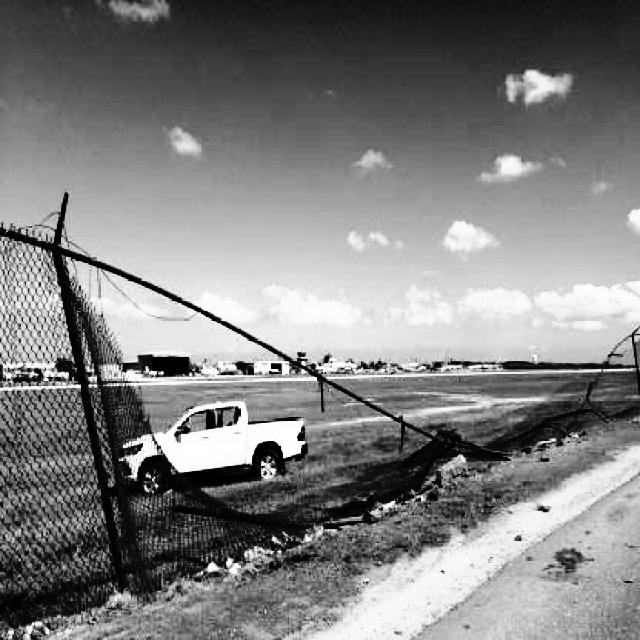anomaly-fence: (25, 202, 640, 599)
